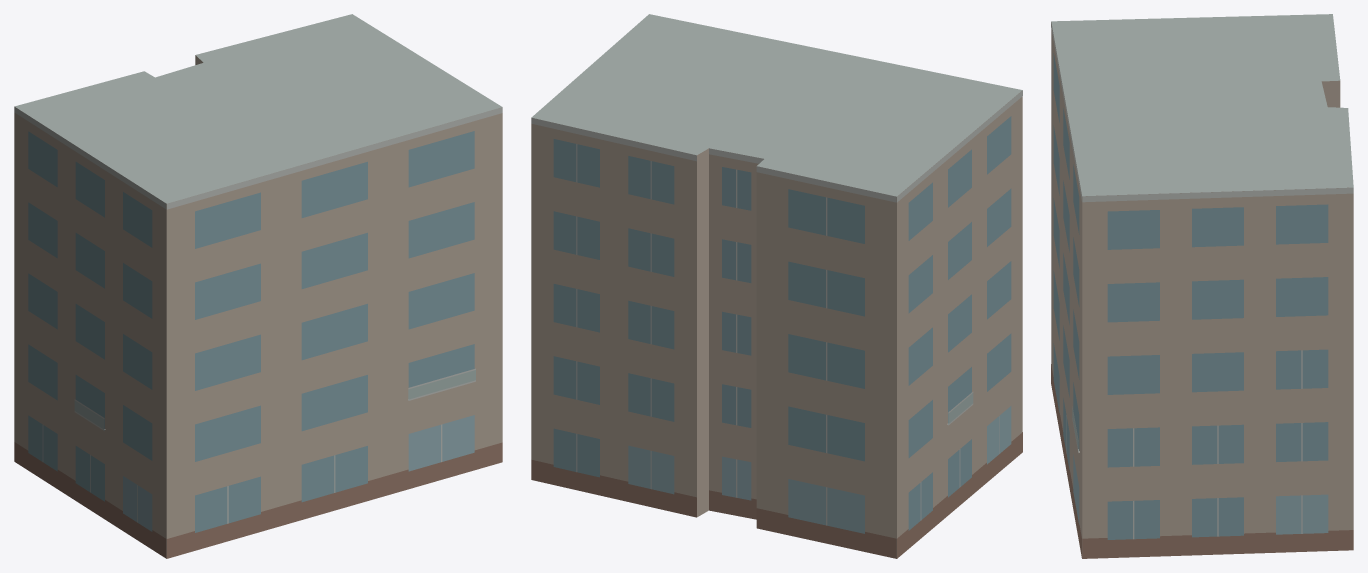
File: survey-upis-32737179.glb
The picture shows the model from 3 angles, left to right: view 1: azimuth 30°, elevation 25°; view 2: azimuth 150°, elevation 25°; view 3: azimuth 270°, elevation 25°; orthographic projection. The views are drawn at different scales.
Visible parts, largest first — view 1: survey-upis-32737179.tmp; view 2: survey-upis-32737179.tmp; view 3: survey-upis-32737179.tmp.
Part boxes in pixels (x1,y1,x2,y2): survey-upis-32737179.tmp: [14, 14, 502, 558]; survey-upis-32737179.tmp: [531, 14, 1022, 558]; survey-upis-32737179.tmp: [1051, 14, 1353, 558].
Bounding box in the file's own units: 15.85 × 14.7 × 11.12.
